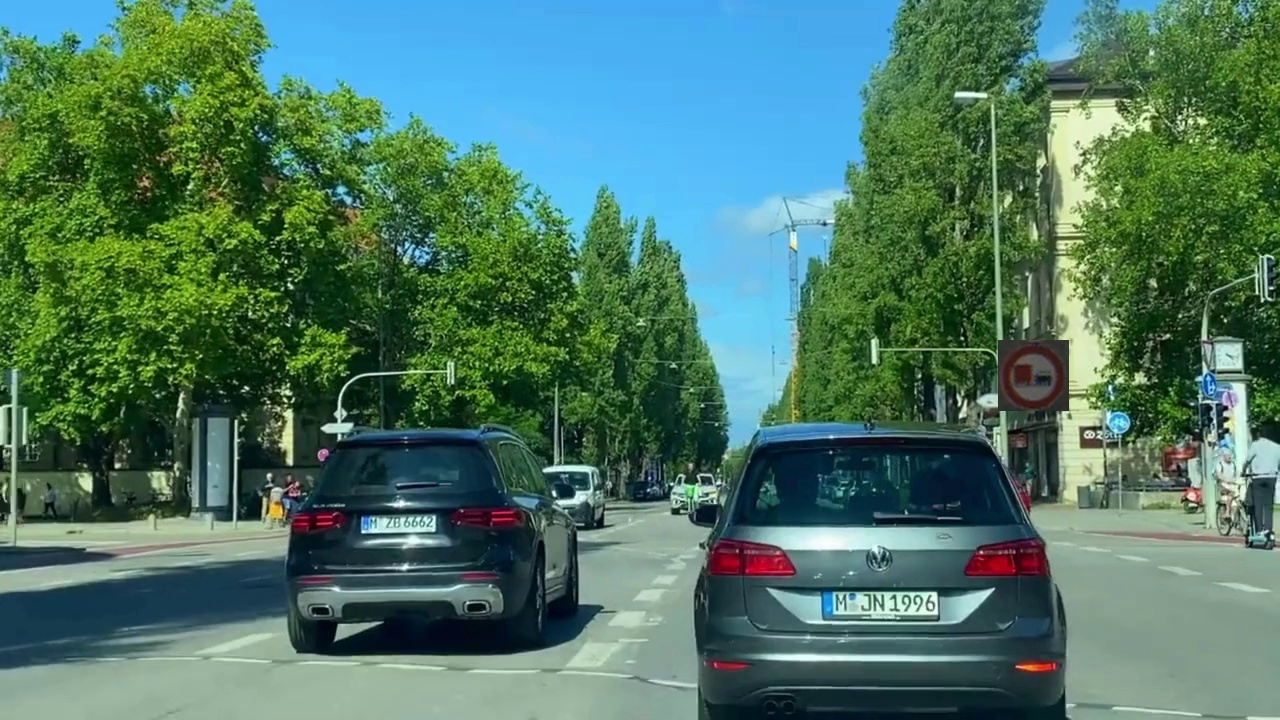No pass >3.5t: (998, 340, 1069, 411)
